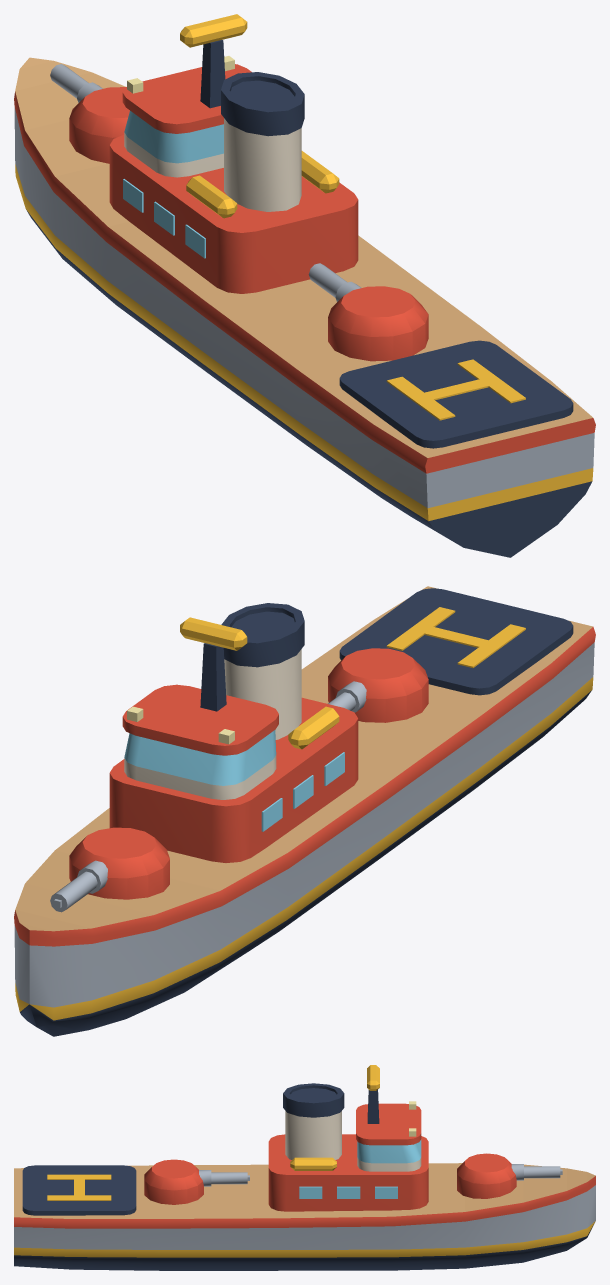
File: unit-gunboat.glb
3 renders of one model, top to bottom at view 1: azimuth 30°, elevation 25°; view 2: azimuth 150°, elevation 25°; view 3: azimuth 270°, elevation 25°, orthographic. The views are drawn at different scales.
Parts seen in each view (by area): view 1: deck, hull, deckhouse, helipad, gunwale, turret (×2), hull_bottom, boot_stripe, exhaust, funnel_top, bridge_roof, bridge_windows (+8 smaller); view 2: hull, deck, deckhouse, helipad, turret (×2), gunwale, boot_stripe, bridge_roof, hull_bottom, bridge_windows, funnel_top, exhaust (+7 smaller); view 3: hull, deck, hull_bottom, deckhouse, gunwale, helipad, boot_stripe, turret (×2), exhaust, bridge_roof, funnel_top, barrel (×2) (+7 smaller).
Boxes of the visible parts, bbox=[...] form: deck: bbox=[15, 57, 592, 457]; hull: bbox=[14, 107, 594, 508]; deckhouse: bbox=[109, 134, 358, 293]; helipad: bbox=[339, 340, 573, 448]; gunwale: bbox=[14, 91, 595, 473]; turret (×2): bbox=[69, 87, 428, 361]; hull_bottom: bbox=[26, 209, 592, 557]; boot_stripe: bbox=[15, 164, 593, 521]; exhaust: bbox=[224, 118, 301, 211]; funnel_top: bbox=[221, 72, 304, 136]; bridge_roof: bbox=[122, 64, 251, 133]; bridge_windows: bbox=[124, 111, 223, 163]; hull: bbox=[14, 642, 594, 1007]; deck: bbox=[15, 586, 592, 931]; deckhouse: bbox=[109, 697, 358, 862]; helipad: bbox=[339, 588, 573, 695]; turret (×2): bbox=[69, 648, 428, 899]; gunwale: bbox=[14, 626, 595, 946]; boot_stripe: bbox=[15, 677, 593, 1020]; bridge_roof: bbox=[122, 684, 278, 755]; hull_bottom: bbox=[20, 690, 591, 1036]; bridge_windows: bbox=[124, 730, 276, 785]; funnel_top: bbox=[221, 603, 304, 667]; exhaust: bbox=[224, 649, 301, 739]; hull: bbox=[14, 1185, 595, 1249]; deck: bbox=[14, 1163, 595, 1218]; hull_bottom: bbox=[14, 1223, 594, 1270]; deckhouse: bbox=[268, 1134, 428, 1211]; gunwale: bbox=[14, 1176, 595, 1228]; helipad: bbox=[22, 1165, 136, 1215]; boot_stripe: bbox=[14, 1221, 595, 1257]; turret (×2): bbox=[144, 1153, 516, 1204]; exhaust: bbox=[285, 1111, 341, 1159]; bridge_roof: bbox=[356, 1103, 421, 1145]; funnel_top: bbox=[283, 1083, 344, 1117]; barrel (×2): bbox=[199, 1164, 560, 1186].
Size of the model in its own units: 9 by 15 by 40.
